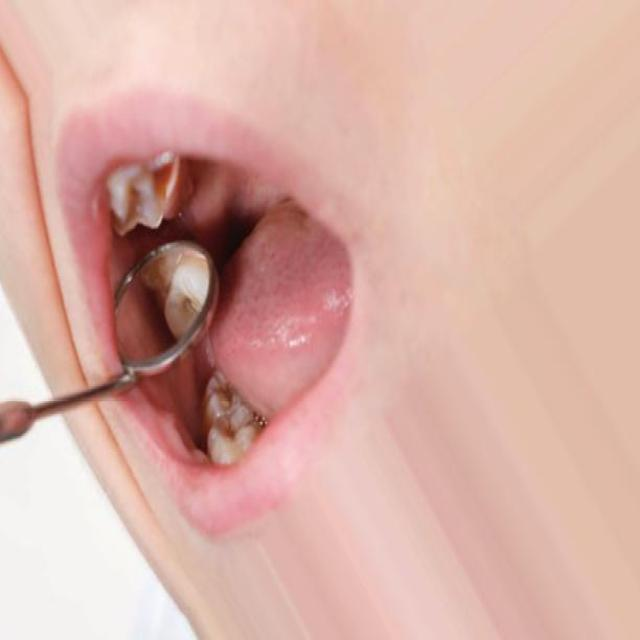caries: (116, 147, 184, 236)
